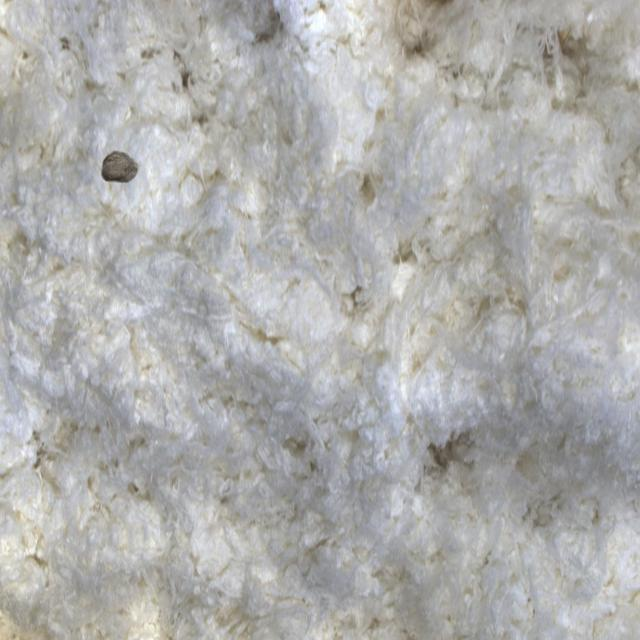dust: (83, 98, 168, 218)
